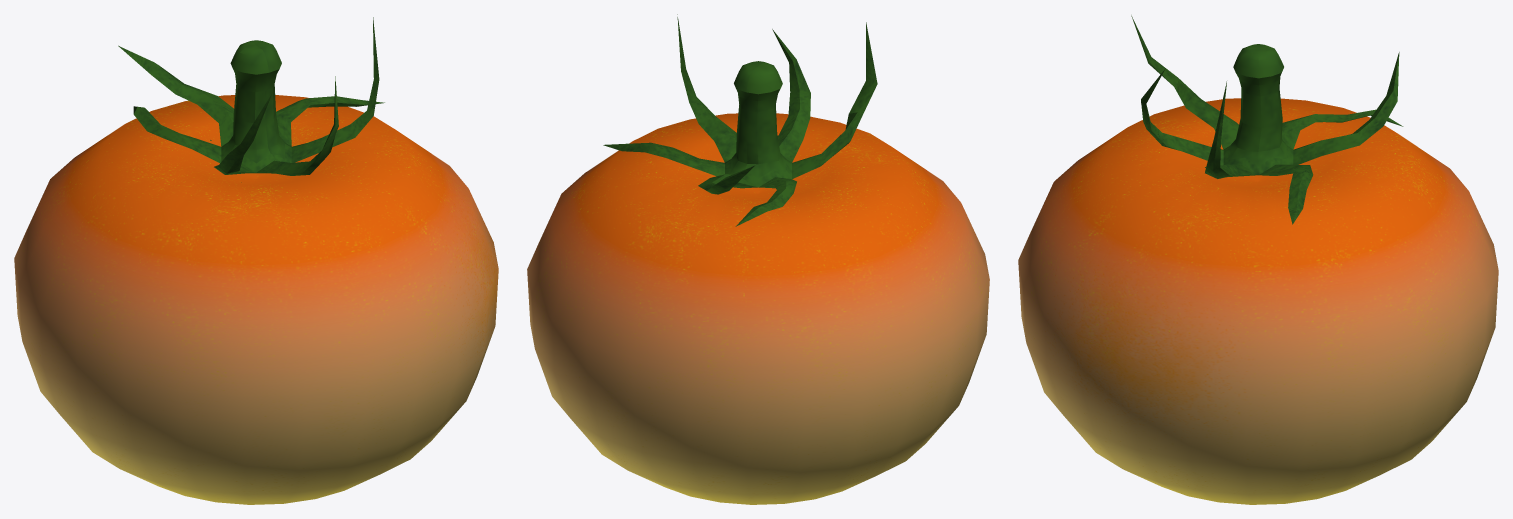
Rendered from tomato09.fbx.
3 views of the same model, side by side, from view 1: azimuth 30°, elevation 25°; view 2: azimuth 150°, elevation 25°; view 3: azimuth 270°, elevation 25° (orthographic). The views are drawn at different scales.
Visible parts, largest first — view 1: Tomato09; view 2: Tomato09; view 3: Tomato09.
Boxes of the visible parts, box(x1,y1,x2,y2) form: Tomato09: box(14, 17, 498, 504); Tomato09: box(527, 14, 989, 504); Tomato09: box(1018, 15, 1498, 504).
Bounding box in the file's own units: 5.78 × 5.92 × 5.78.
Materials: 1 (1 with a texture image).
